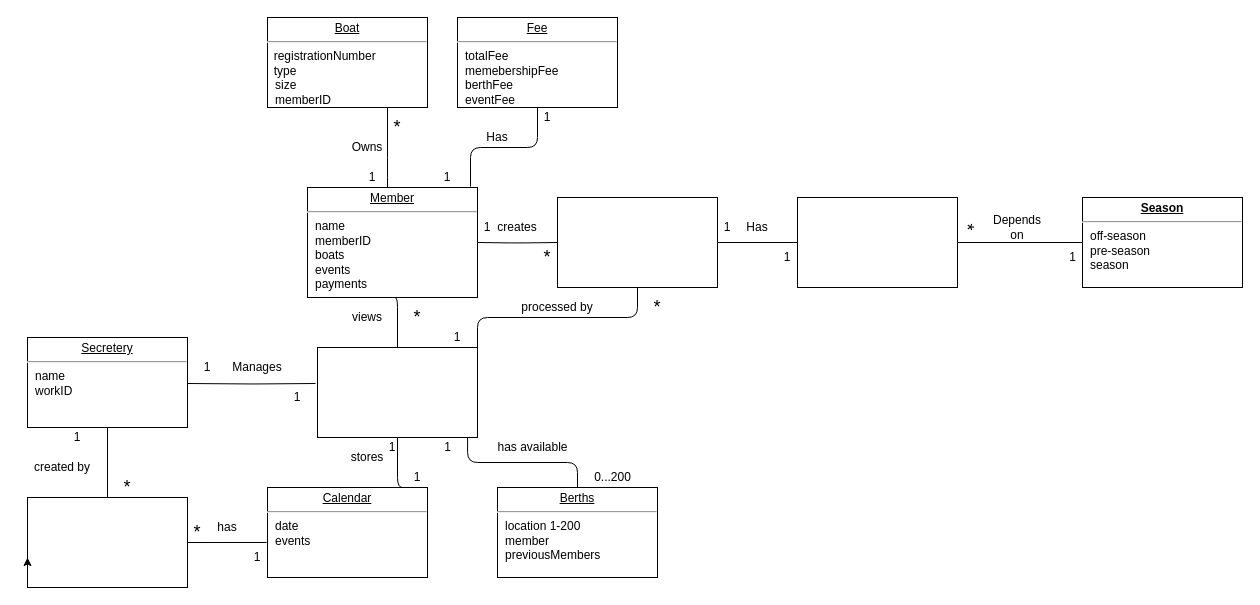
This 1260x605 diagram has some shape labels left out. The shapes that lost their labels are listed below. From the top down, each one's centre as x and y in pixels, then its label:
At point (637, 242): "Booking BerthBooking EventBooking".
At point (877, 242): "Price registrationPrice [Seasonal] berthPrice [more boats less] eventPrice".
At point (397, 392): "Yachtclub memberList berthList calendar".
At point (107, 542): "Event startdate enddate title description".
